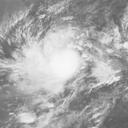cyclone: (23, 30, 84, 92)
